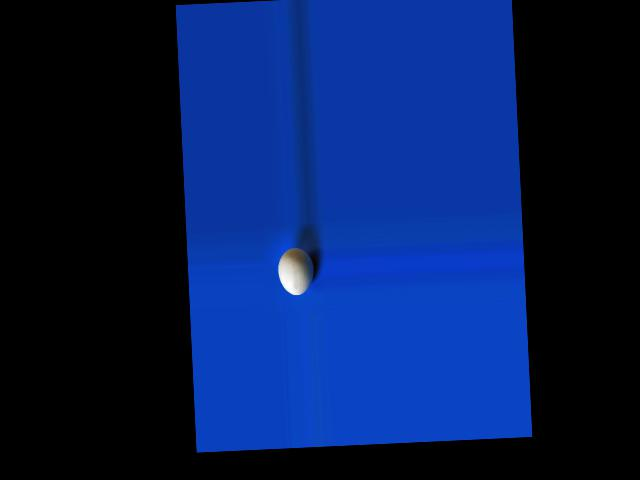egg: (277, 246, 315, 296)
